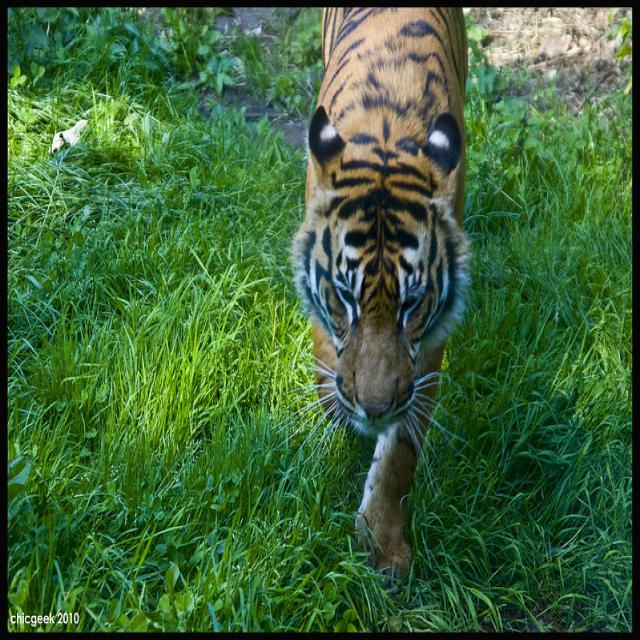Tiger: (289, 5, 476, 579)
